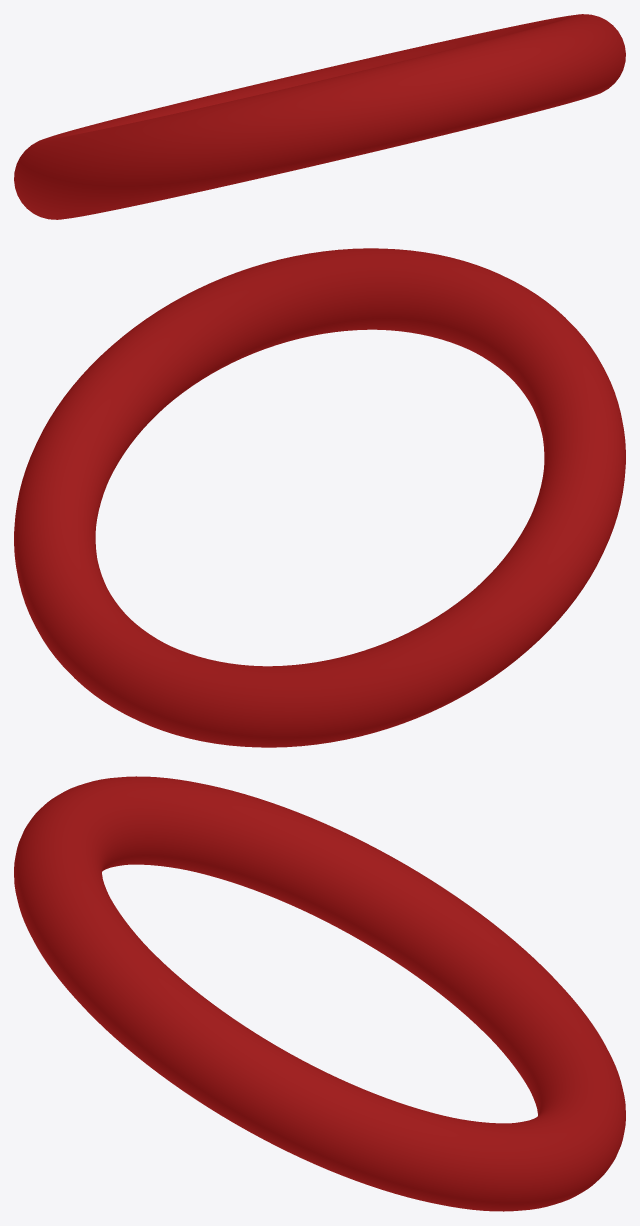
The model's file is wristband.glb.
3 renders of one model, top to bottom at view 1: azimuth 30°, elevation 25°; view 2: azimuth 150°, elevation 25°; view 3: azimuth 270°, elevation 25°, orthographic. The views are drawn at different scales.
Size of the model in its own units: 3.53 by 1.85 by 3.2.
